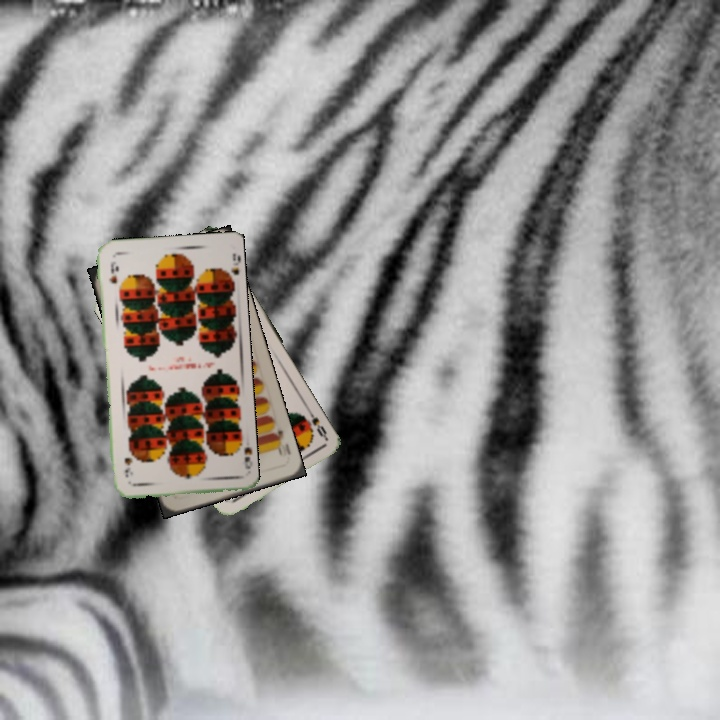E10: (268, 426, 286, 458)
S9: (233, 435, 253, 471), (105, 257, 120, 286)
SO: (303, 404, 329, 441)
